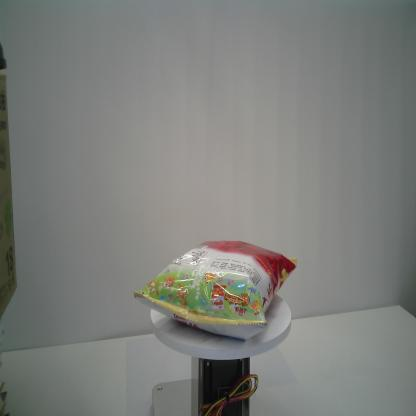Puffed Food: (131, 238, 299, 342)
